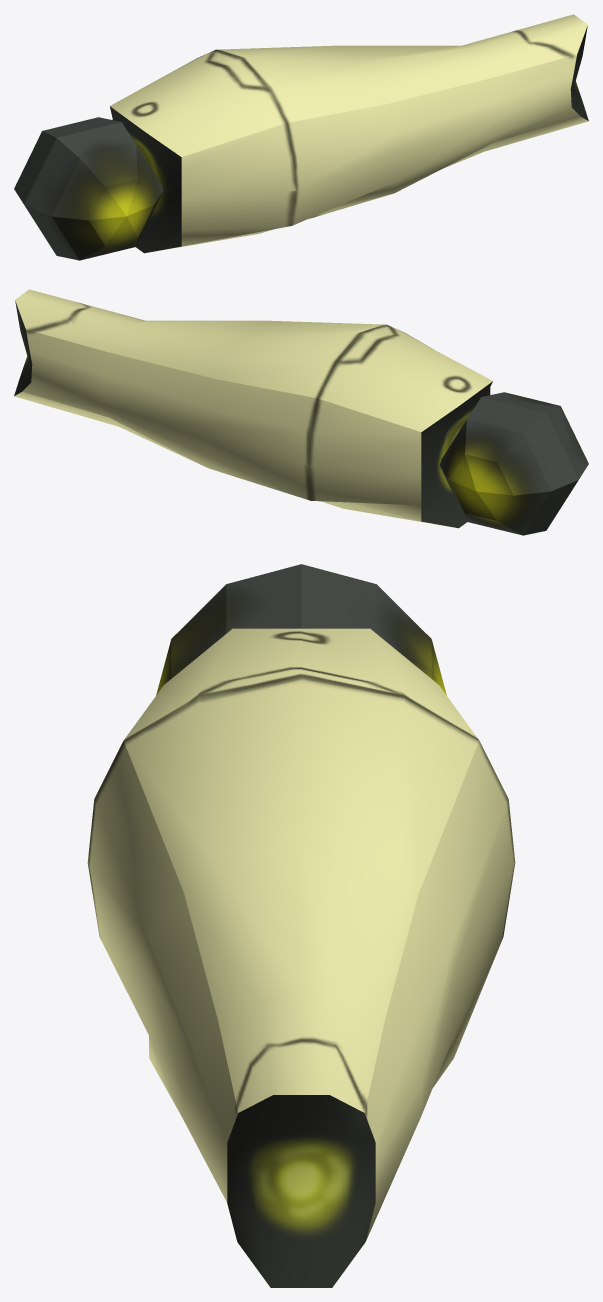
The model's file is arm2.fbx.
The picture shows the model from 3 angles, top to bottom: view 1: azimuth 30°, elevation 25°; view 2: azimuth 150°, elevation 25°; view 3: azimuth 270°, elevation 25°; orthographic projection. The views are drawn at different scales.
Visible parts, largest first — view 1: pCube3, pSphere2; view 2: pCube3, pSphere2; view 3: pCube3, pSphere2.
Boxes of the visible parts, x1,y1,x2,y2 form: pCube3: (110, 14, 588, 253); pSphere2: (14, 117, 163, 260); pCube3: (14, 289, 492, 528); pSphere2: (439, 392, 588, 535); pCube3: (87, 628, 515, 1287); pSphere2: (156, 564, 446, 695).
Size of the model in its own units: 9.16 by 2.71 by 3.05.
